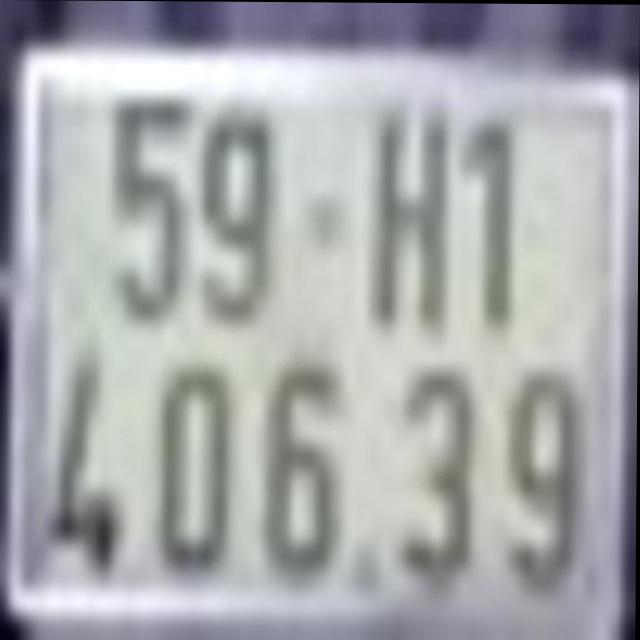0: (159, 353, 238, 578)
1: (457, 98, 522, 327)
3: (387, 353, 482, 591)
4: (39, 336, 131, 587)
5: (111, 85, 191, 324)
6: (255, 350, 349, 587)
9: (194, 86, 280, 327), (501, 344, 575, 593)
H: (373, 100, 453, 331)
